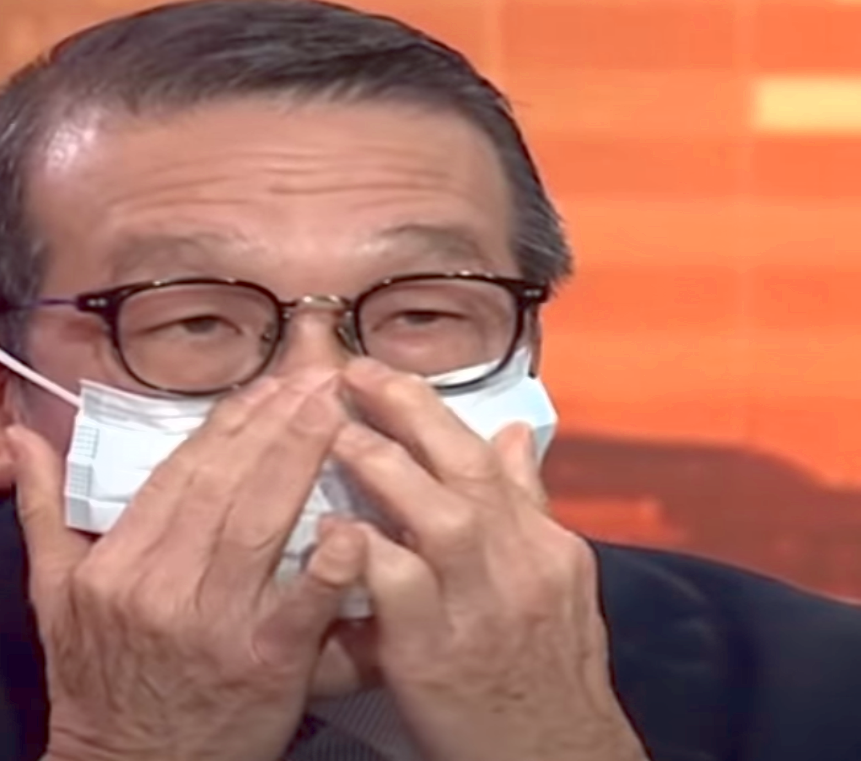mask_weared_incorrect: (1, 26, 557, 704)
